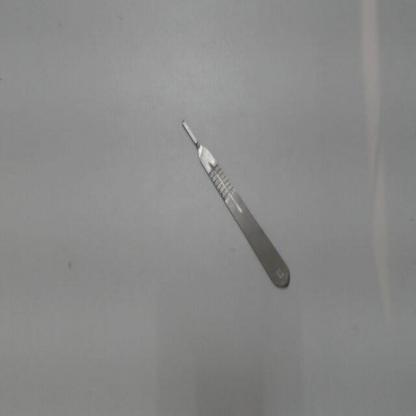No.3 BP Handle: (171, 102, 303, 304)
